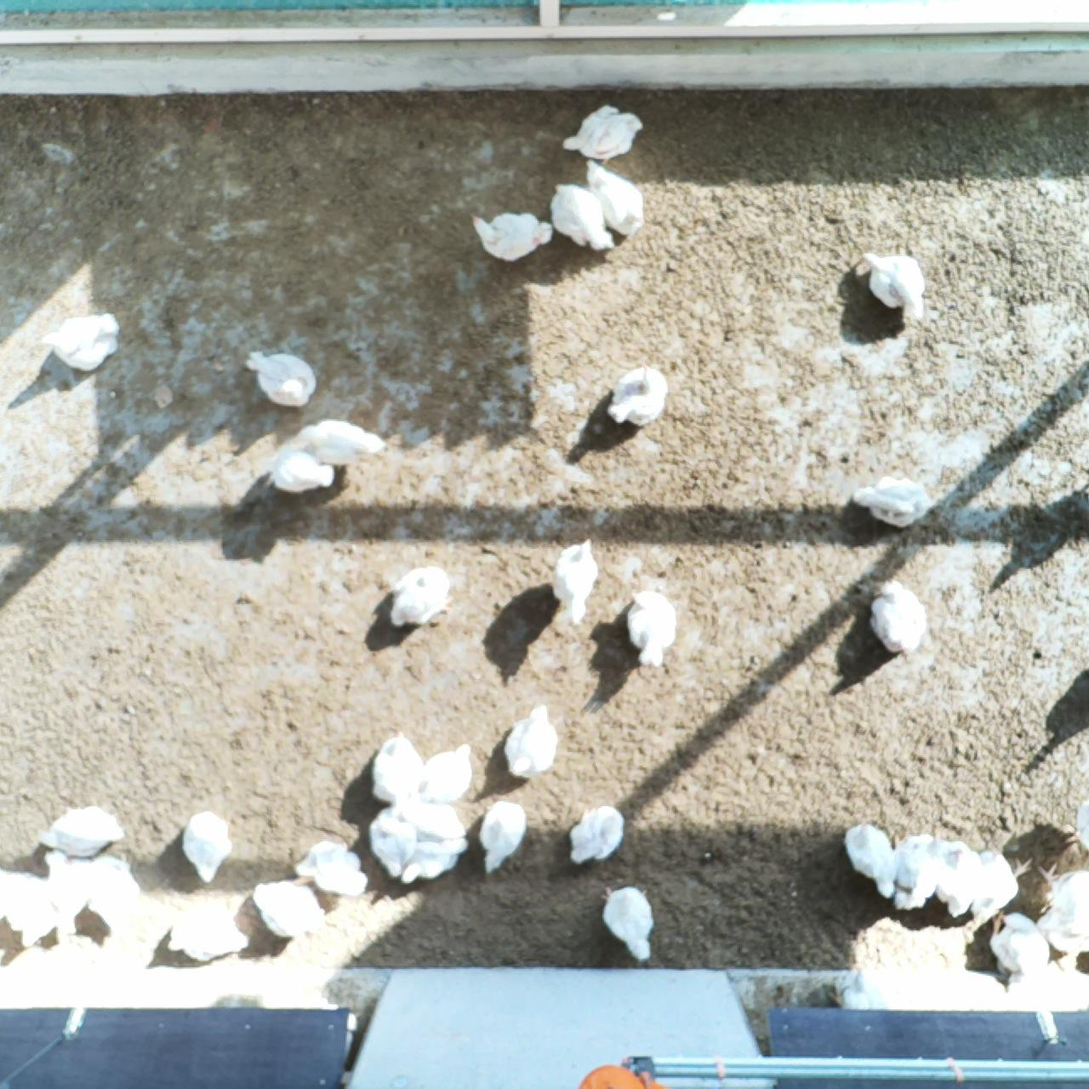chicken: (962, 845, 1034, 924), (578, 157, 645, 238), (35, 312, 122, 373), (561, 102, 644, 165), (34, 803, 125, 860), (859, 250, 931, 322), (165, 900, 249, 961), (249, 880, 328, 944), (550, 178, 617, 253), (37, 849, 91, 942), (466, 207, 554, 264), (853, 471, 937, 530), (0, 858, 55, 948), (597, 880, 658, 961), (290, 417, 384, 468), (865, 577, 927, 654), (1039, 862, 1089, 957), (77, 855, 140, 928), (388, 564, 455, 631), (884, 961, 954, 1024), (990, 909, 1050, 982), (243, 348, 319, 405), (625, 587, 678, 668), (606, 361, 670, 428), (294, 839, 369, 895), (550, 537, 599, 622), (845, 822, 898, 899), (368, 730, 423, 804), (180, 809, 234, 884), (892, 828, 940, 912), (934, 835, 982, 919), (503, 706, 558, 779), (396, 830, 468, 883), (476, 800, 526, 873), (568, 803, 625, 867), (824, 963, 891, 1017), (369, 809, 419, 878), (418, 742, 473, 802), (264, 449, 337, 494), (397, 795, 466, 842), (1006, 962, 1065, 1015), (954, 967, 1010, 1021), (1049, 952, 1089, 1023), (1073, 797, 1089, 857)
